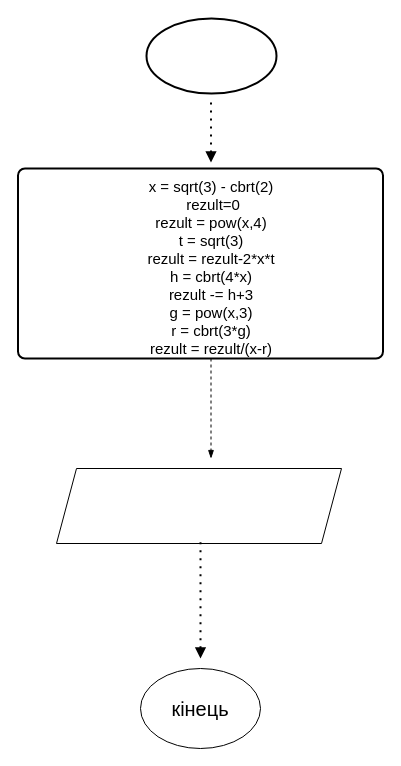
Some shapes in this 401 by 766 pixel diagram are drawn without their labels. Each missing label, with the centre of its shape:
cout = x = rezult: [199,506]
початок: [211,55]
